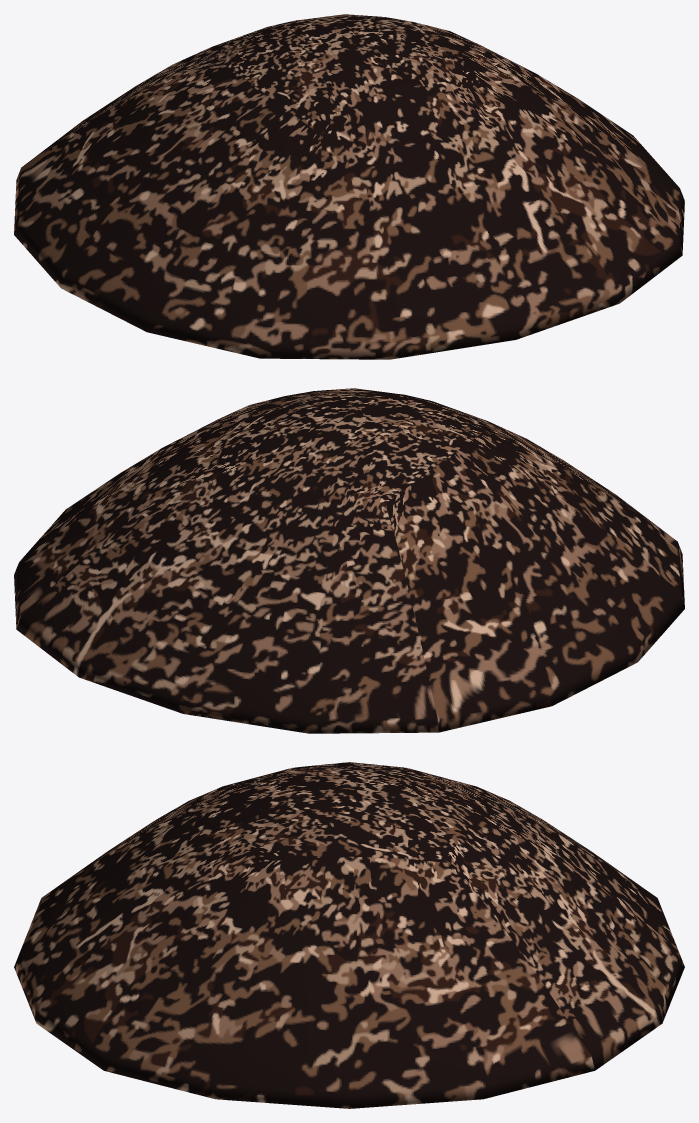
File: wormresin.fbx
The picture shows the model from 3 angles, top to bottom: view 1: azimuth 30°, elevation 25°; view 2: azimuth 150°, elevation 25°; view 3: azimuth 270°, elevation 25°; orthographic projection.
Visible parts, largest first — view 1: polySurface3; view 2: polySurface3; view 3: polySurface3.
Boxes of the visible parts, <box> form: polySurface3: <box>14,14,684,359</box>; polySurface3: <box>14,388,684,733</box>; polySurface3: <box>14,762,684,1108</box>.
Bounding box in the file's own units: 5.23 × 1.66 × 5.23.
